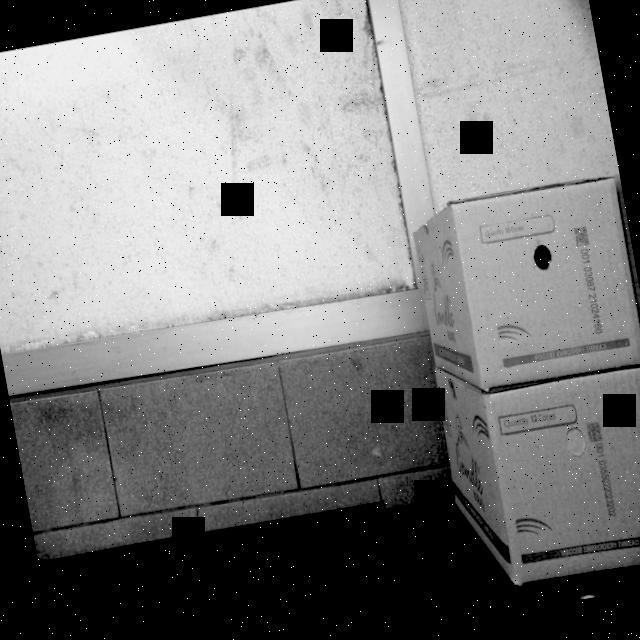box: (452, 177, 640, 387), (484, 366, 640, 583)
